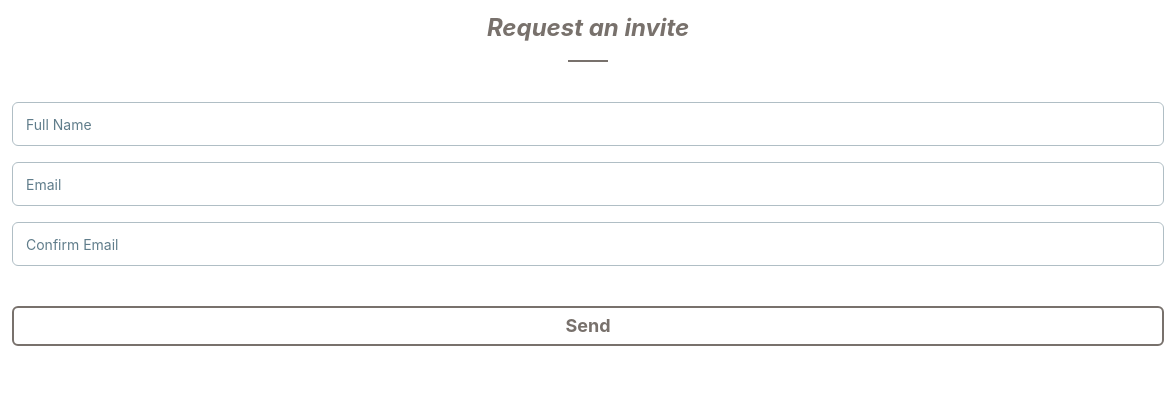
Test case: should display email validation
This screenshot has width=1176, height=395.
In the field with test id "input-email": [588, 184] box [12,162,1164,206], type "asdfasdf"
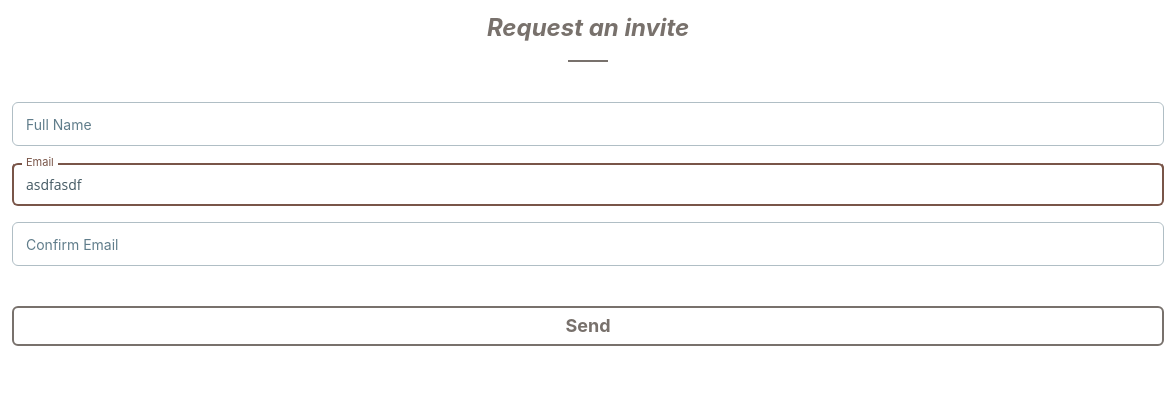
Press Tab
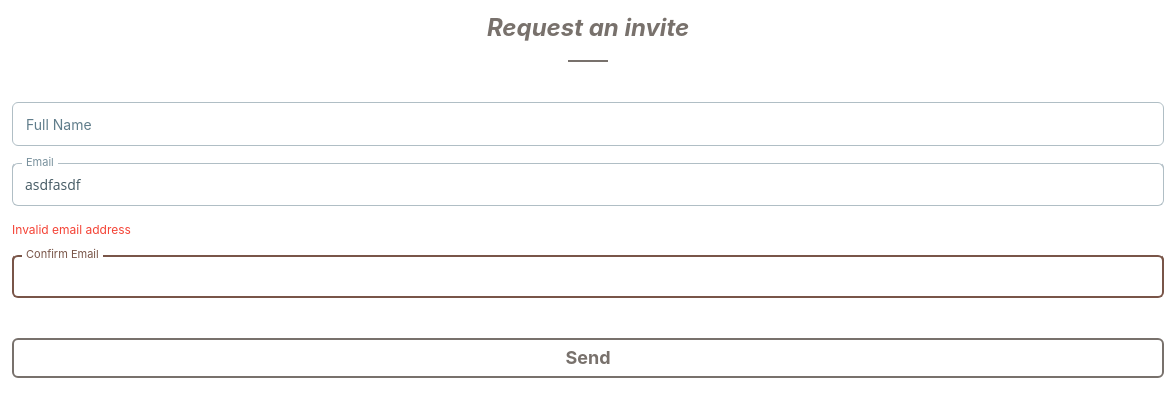
Now the text with test id "error-message" reads "Invalid email address", box [12,222,131,237]
